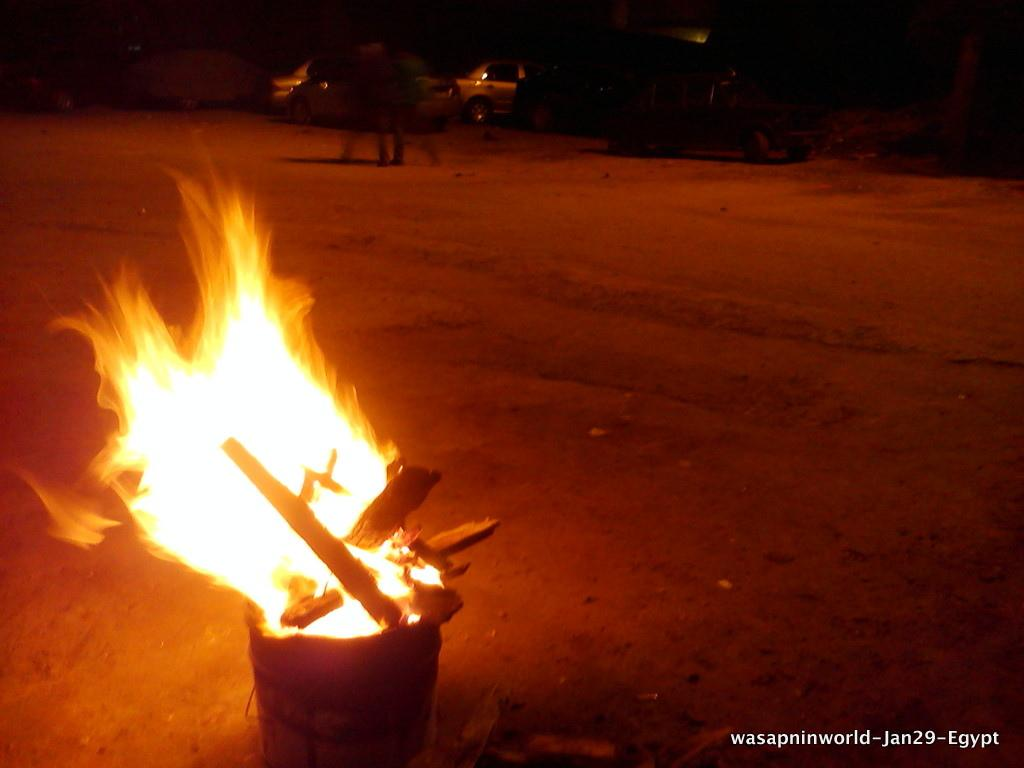fire: (256, 438, 392, 610), (200, 302, 328, 432), (148, 438, 246, 536), (110, 312, 186, 432)
